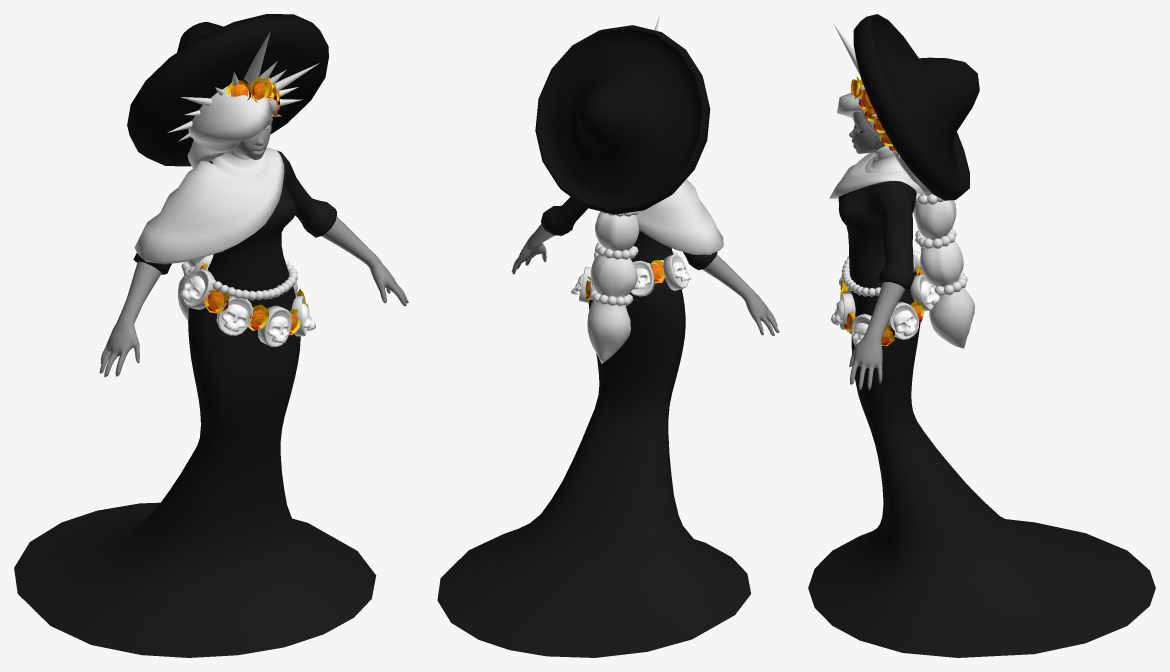
File: BossLow.FBX
3 views of the same model, side by side, from view 1: azimuth 30°, elevation 25°; view 2: azimuth 150°, elevation 25°; view 3: azimuth 270°, elevation 25° (orthographic). The views are drawn at different scales.
Parts seen in each view (by area): view 1: Dress_Low, Sombrero_Low, Cape_Low, Body_Low, Hair_Low, Spikes_Low, NeckPiece_Low, PearlBelts_Low, Medallion_Low001; view 2: Dress_Low, Sombrero_Low, Hair_Low, Cape_Low, Body_Low, HairPearls_Low, Medallion_Low003; view 3: Dress_Low, Sombrero_Low, Hair_Low, Body_Low, Cape_Low, HairPearls_Low, NeckPiece_Low, PearlBelts_Low.
Boxes of the visible parts, left/top/right/bottom form: Dress_Low: left=14, top=150, right=376, bottom=657; Sombrero_Low: left=127, top=14, right=328, bottom=166; Cape_Low: left=134, top=148, right=284, bottom=264; Body_Low: left=99, top=110, right=408, bottom=377; Hair_Low: left=178, top=86, right=277, bottom=320; Spikes_Low: left=167, top=31, right=319, bottom=141; NeckPiece_Low: left=211, top=148, right=266, bottom=176; PearlBelts_Low: left=205, top=261, right=297, bottom=300; Medallion_Low001: left=258, top=305, right=291, bottom=346; Dress_Low: left=437, top=196, right=750, bottom=657; Sombrero_Low: left=535, top=25, right=710, bottom=214; Hair_Low: left=587, top=211, right=639, bottom=363; Cape_Low: left=636, top=179, right=723, bottom=254; Body_Low: left=511, top=223, right=779, bottom=336; HairPearls_Low: left=589, top=211, right=638, bottom=306; Medallion_Low003: left=662, top=254, right=688, bottom=290; Dress_Low: left=808, top=180, right=1155, bottom=657; Sombrero_Low: left=853, top=14, right=979, bottom=200; Hair_Low: left=837, top=85, right=975, bottom=348; Body_Low: left=849, top=111, right=905, bottom=389; Cape_Low: left=829, top=153, right=924, bottom=198; HairPearls_Low: left=915, top=192, right=967, bottom=296; NeckPiece_Low: left=865, top=146, right=904, bottom=172; PearlBelts_Low: left=841, top=256, right=915, bottom=296.
Size of the model in its own units: 95.24 by 180 by 100.
